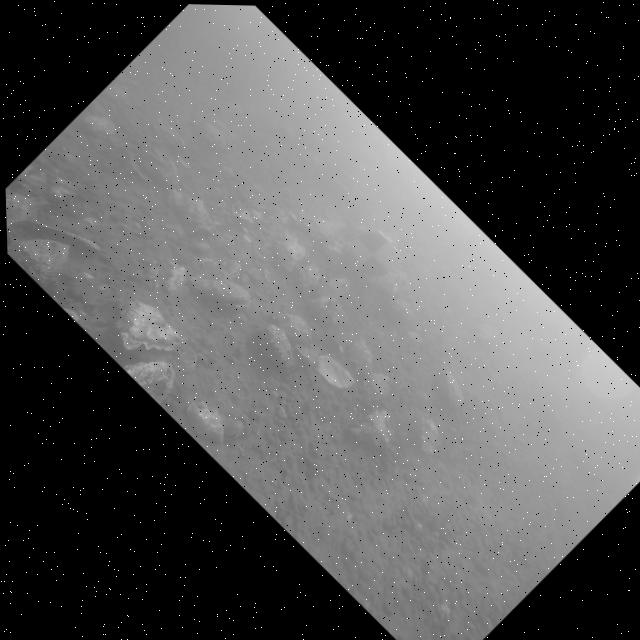Oyster-Closed: (115, 301, 185, 350), (123, 362, 174, 404), (168, 189, 213, 232), (190, 277, 250, 308), (134, 149, 177, 188), (350, 410, 390, 448), (186, 402, 223, 443), (257, 324, 292, 367), (274, 231, 305, 271), (151, 119, 185, 154), (273, 313, 310, 345), (308, 296, 342, 326), (347, 340, 372, 376), (297, 263, 320, 293), (363, 373, 388, 400), (445, 370, 463, 406), (420, 417, 437, 454), (86, 114, 114, 134)
Oyster-Indeterminate: (7, 239, 73, 294), (187, 254, 245, 284), (6, 190, 40, 230)
Oyster-Open: (9, 217, 101, 262), (294, 344, 353, 388)
